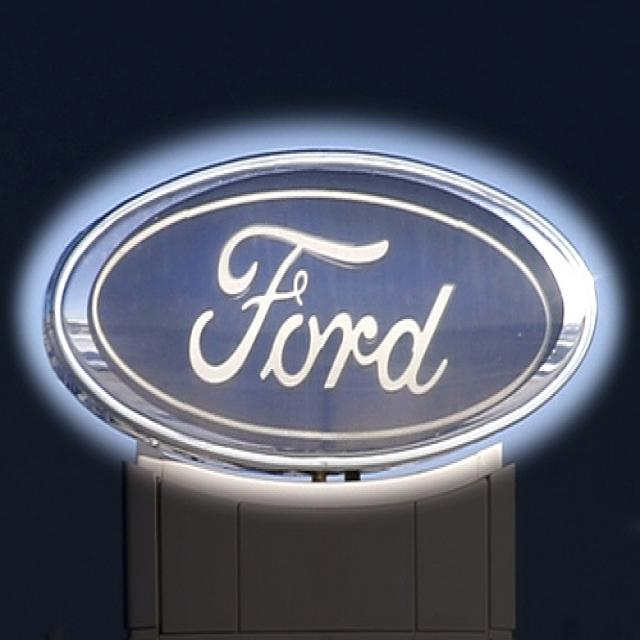ford: (38, 142, 599, 488)
